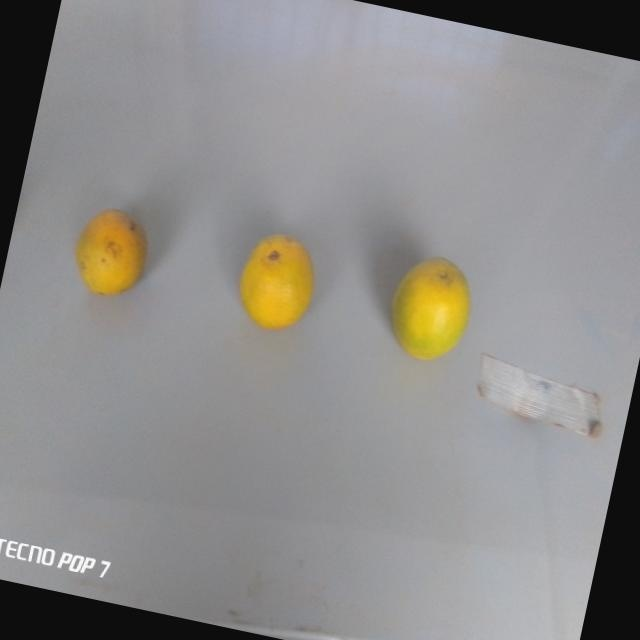agrume: (380, 240, 484, 383), (227, 221, 326, 348), (67, 204, 157, 300)
